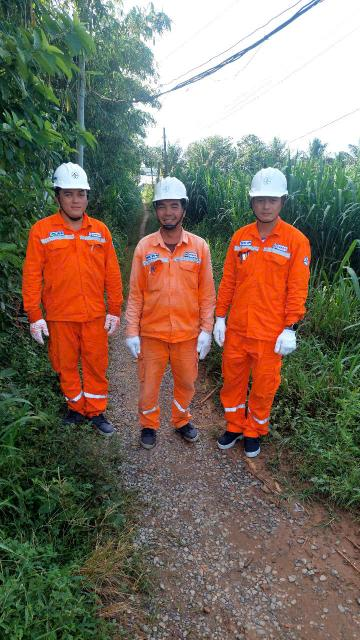gloves: (274, 322, 299, 362), (24, 320, 54, 347), (118, 333, 143, 361), (210, 312, 228, 348), (196, 327, 214, 361), (105, 313, 122, 339)
helmet: (36, 159, 92, 193), (245, 161, 290, 200), (151, 176, 190, 204)
shoes: (90, 407, 119, 440), (133, 420, 159, 455), (213, 422, 245, 450), (55, 409, 85, 434), (178, 418, 202, 445), (244, 429, 266, 455)
